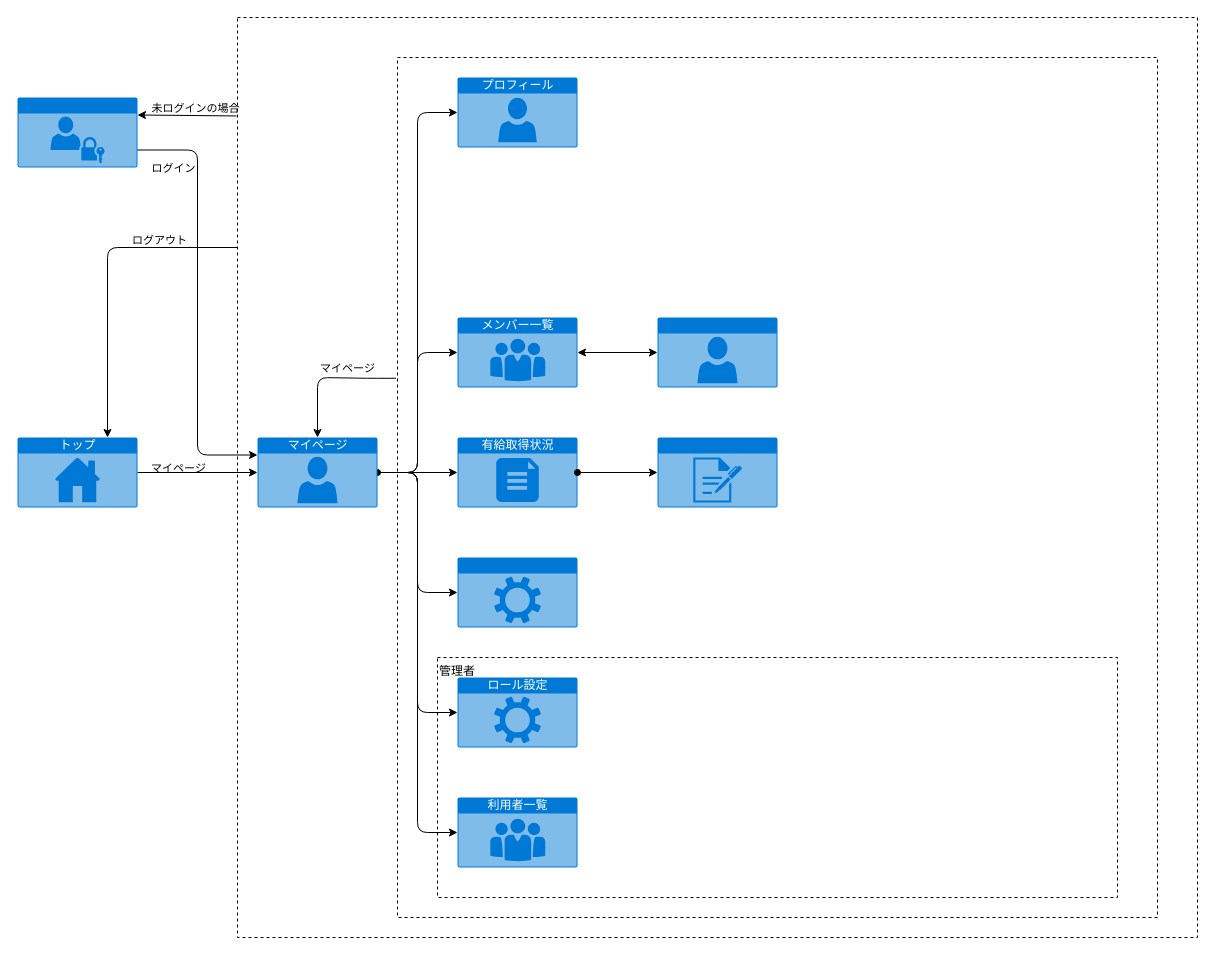
The diagram is 1215 pixels wide and 955 high, and some of its shapes have lost their labels. The centre of each missing label's shape, as x and y in pixels:
メンバー詳細: the point at 717,352
有給取得状況更新: the point at 717,472
権限設定: the point at 517,592
認証: the point at 77,132
